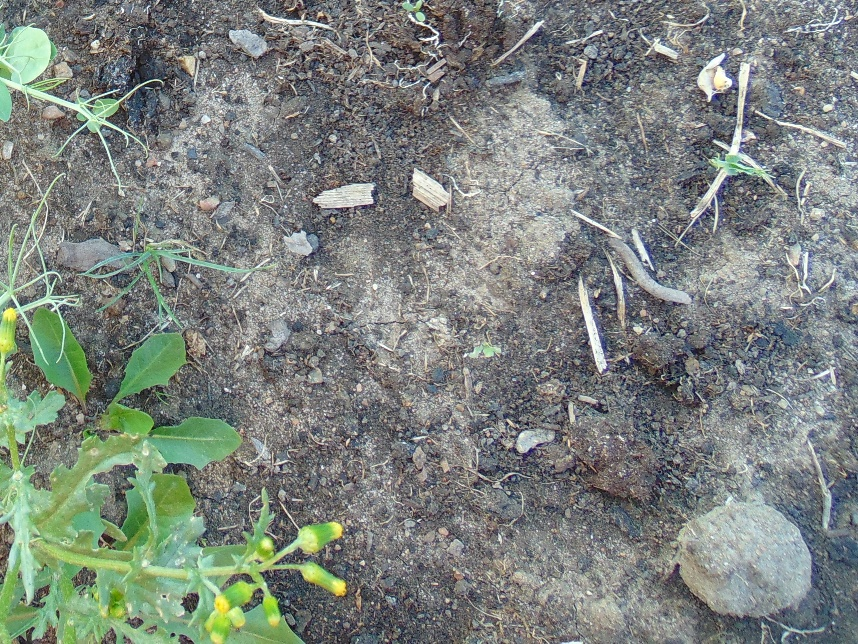crop: (1, 22, 120, 147), (1, 220, 70, 345), (710, 152, 773, 178)
weed: (1, 392, 348, 644), (30, 311, 192, 436), (83, 350, 245, 475), (107, 237, 196, 295)
